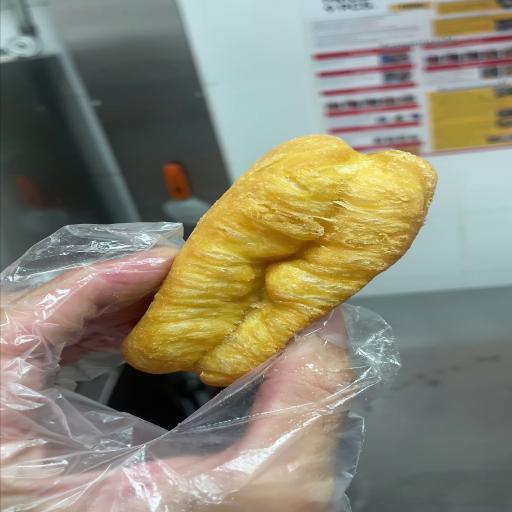brand_golden_good: (123, 135, 436, 386)
